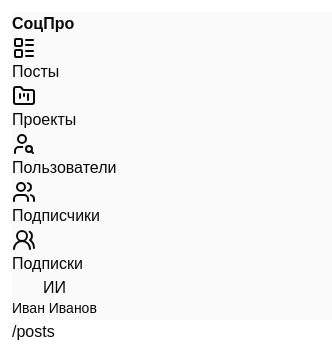
Test: AppSidebar — переходы по роутам › переходит на /users при клике «Пользователи»
Click the link "Пользователи": x=12, y=132 x1=12 y1=132 x2=116 y2=176
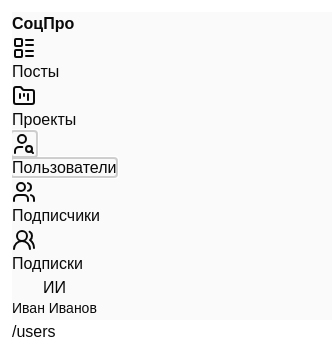
Now the text with test id "nav-current-path" reads "/users", box x1=12 y1=323 x2=56 y2=340
